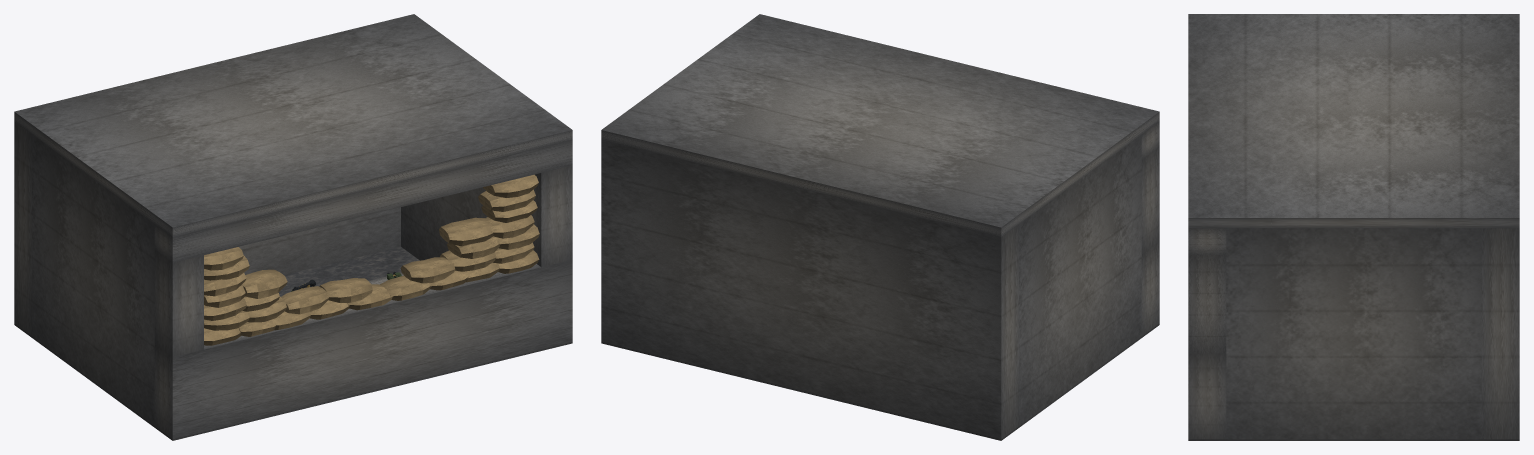
File: bsf_border_bunker_morcha.glb
The picture shows the model from 3 angles, left to right: view 1: azimuth 30°, elevation 25°; view 2: azimuth 150°, elevation 25°; view 3: azimuth 270°, elevation 25°; orthographic projection. The views are drawn at different scales.
Visible parts, largest first — view 1: Bunker_Concrete_Room, Hessian_Sandbags; view 2: Bunker_Concrete_Room; view 3: Bunker_Concrete_Room.
Boxes of the visible parts, left/top/right/bottom form: Bunker_Concrete_Room: left=14, top=14, right=572, bottom=440; Hessian_Sandbags: left=204, top=174, right=539, bottom=345; Bunker_Concrete_Room: left=601, top=14, right=1159, bottom=440; Bunker_Concrete_Room: left=1188, top=14, right=1519, bottom=440.
Size of the model in its own units: 5.1 by 2.6 by 3.5.
Materials: 1 (1 with a texture image).
